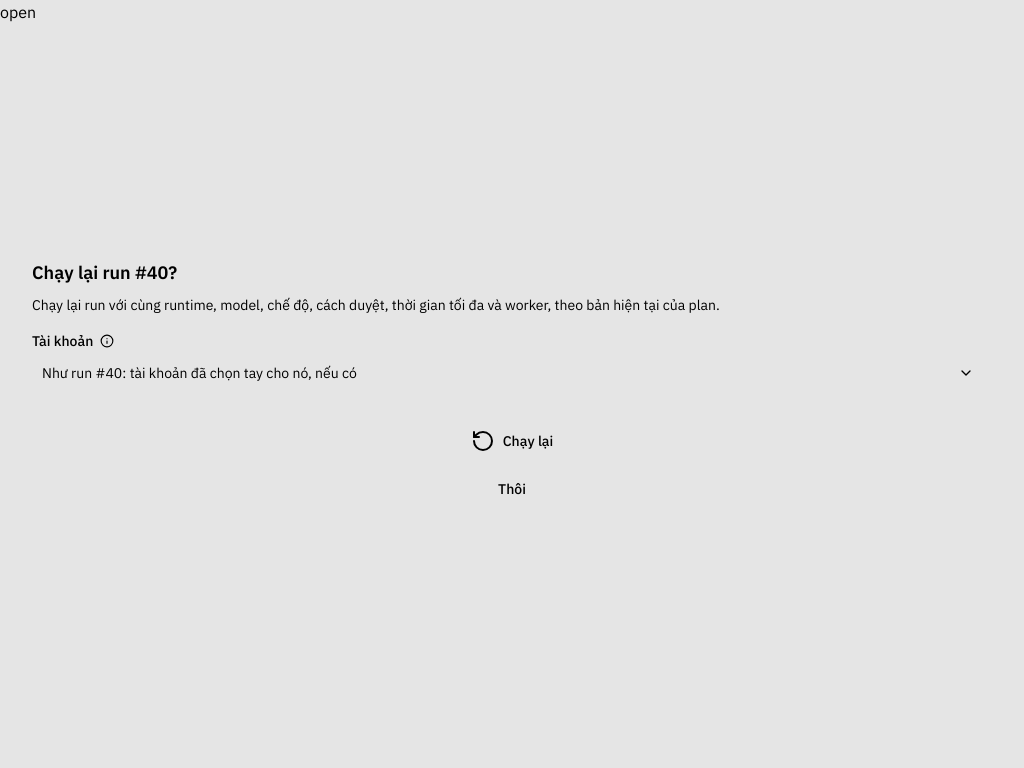
Test: RerunDialog › stays open with the hub's reason when the account cannot go
The image size is (1024, 768).
Click the button with test id "rerun-confirm" at (512,441), box [32,421,992,461]
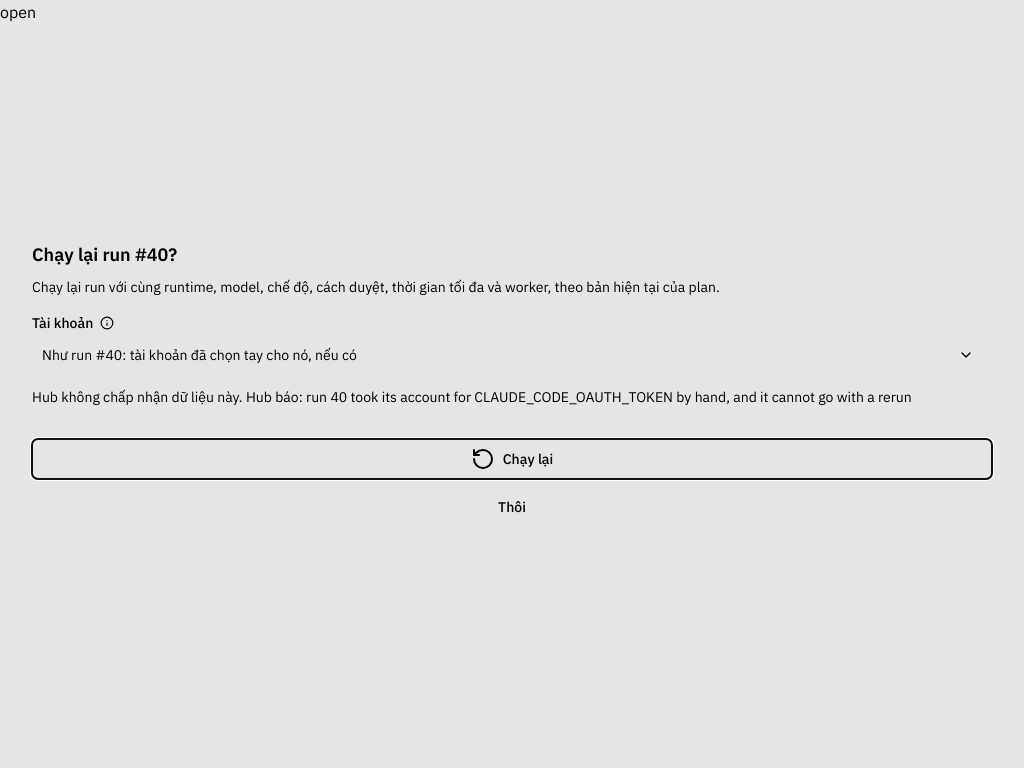
Expected: the text with test id "open-state" reads "open", [0,2,36,22]
Result: the message shows "run 40 took its account for CLAUDE_CODE_OAUTH_TOKEN by hand, and it cannot go with a rerun" at [32,388,912,406]
